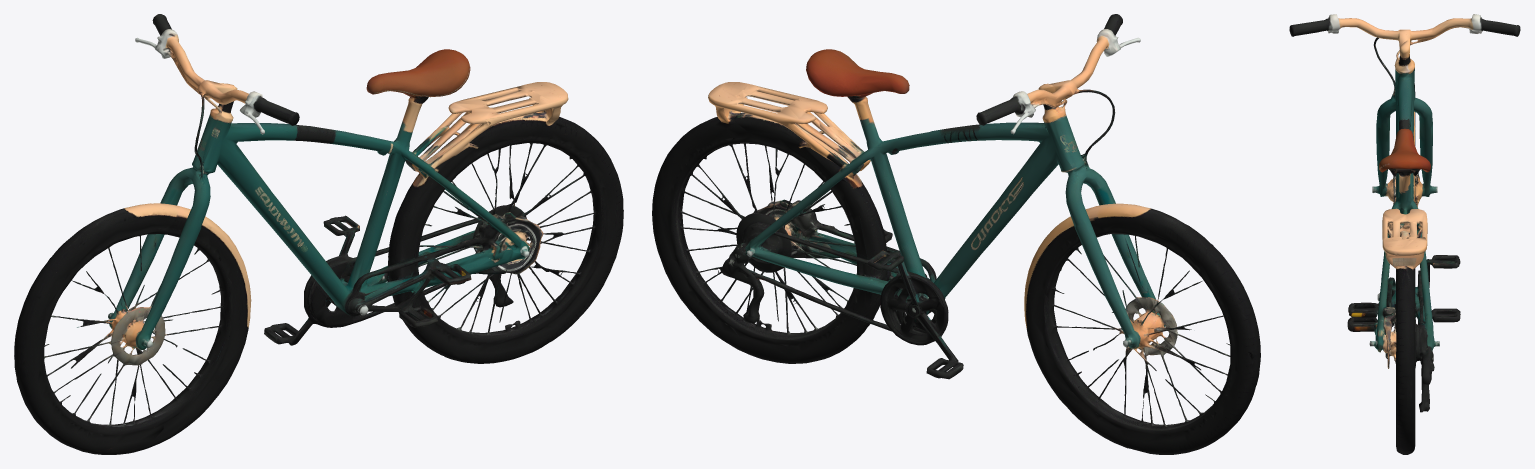
The model's file is BikeModel.glb.
3 renders of one model, left to right at view 1: azimuth 30°, elevation 25°; view 2: azimuth 150°, elevation 25°; view 3: azimuth 270°, elevation 25°, orthographic. The views are drawn at different scales.
Parts seen in each view (by area): view 1: Mesh_0; view 2: Mesh_0; view 3: Mesh_0.
Boxes of the visible parts, <box> form: Mesh_0: <box>14,14,623,454</box>; Mesh_0: <box>652,14,1260,454</box>; Mesh_0: <box>1289,14,1520,454</box>.
Bounding box in the file's own units: 1.71 × 1 × 0.6752.
1 material, 1 textured.
